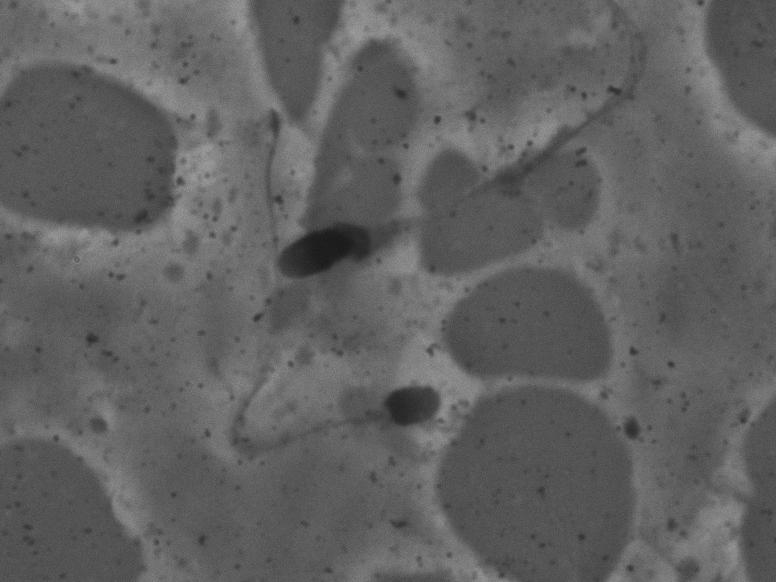Abnormal: (274, 15, 653, 290)
Normal: (217, 96, 448, 487)
